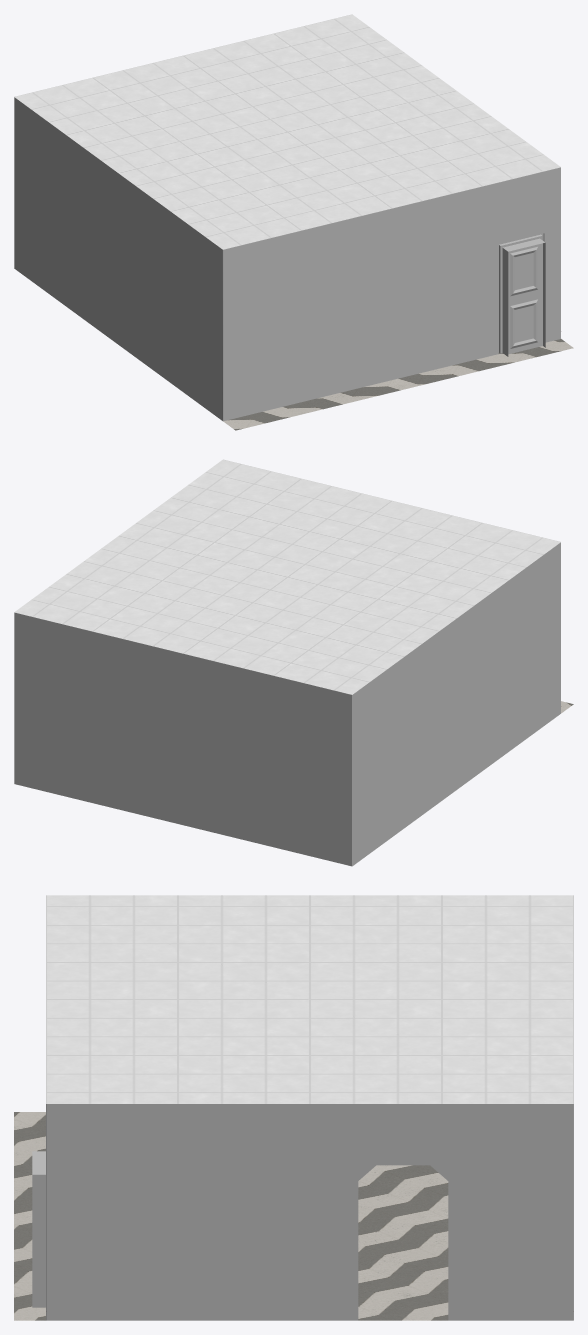
The model's file is sumecek.fbx.
3 renders of one model, top to bottom at view 1: azimuth 30°, elevation 25°; view 2: azimuth 150°, elevation 25°; view 3: azimuth 270°, elevation 25°, orthographic. The views are drawn at different scales.
Visible parts, largest first — view 1: sumecek walls, sumecek ceiling, sumecek door, sumecek floor; view 2: sumecek walls, sumecek ceiling; view 3: sumecek ceiling, sumecek walls, sumecek floor, sumecek door.
Part boxes in pixels (x1=…): sumecek walls: x1=14, y1=97, x2=560, y2=421; sumecek ceiling: x1=14, y1=14, x2=560, y2=249; sumecek door: x1=498, y1=233, x2=545, y2=356; sumecek floor: x1=223, y1=339, x2=573, y2=430; sumecek walls: x1=14, y1=542, x2=560, y2=866; sumecek ceiling: x1=14, y1=459, x2=560, y2=694; sumecek ceiling: x1=46, y1=895, x2=573, y2=1103; sumecek walls: x1=46, y1=1104, x2=573, y2=1320; sumecek floor: x1=14, y1=1112, x2=573, y2=1320; sumecek door: x1=32, y1=1151, x2=45, y2=1307.
Size of the model in its own units: 722 by 350 by 820.
